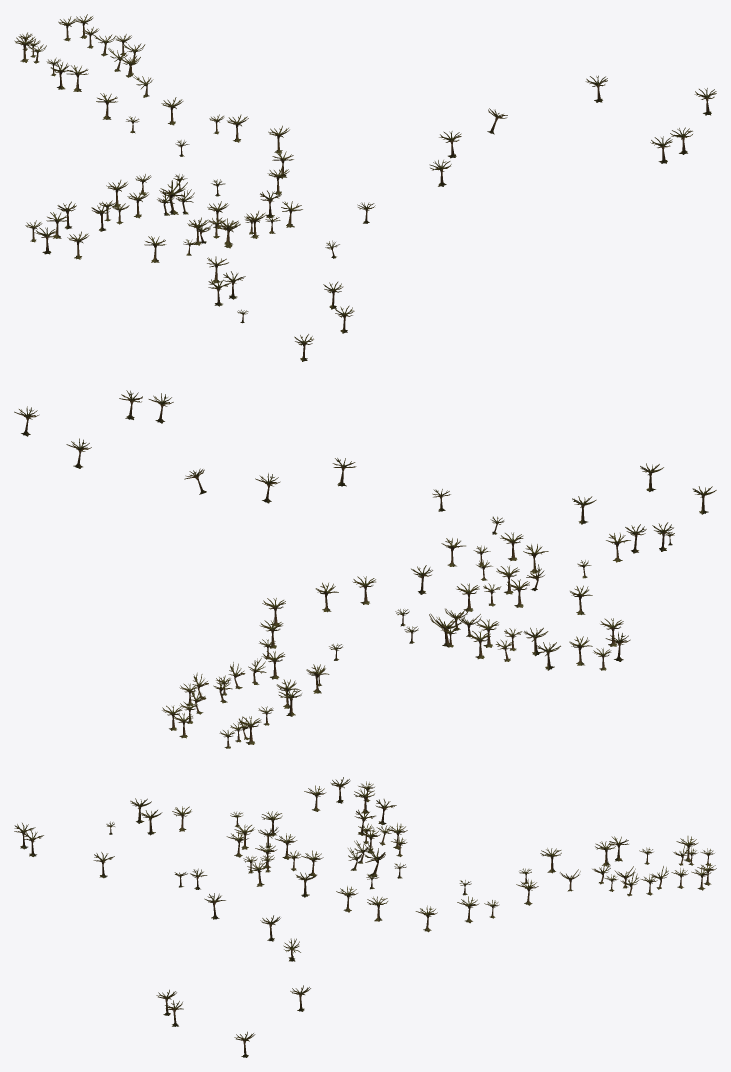
Rendered from Trees.FBX.
3 renders of one model, top to bottom at view 1: azimuth 30°, elevation 25°; view 2: azimuth 150°, elevation 25°; view 3: azimuth 270°, elevation 25°, orthographic. The views are drawn at different scales.
Parts seen in each view (by area): view 1: Tree:Tree101; view 2: Tree:Tree101; view 3: Tree:Tree101.
Part boxes in pixels (box(x1,y1,x2,y2)): Tree:Tree101: box(14, 14, 716, 361); Tree:Tree101: box(14, 390, 716, 748); Tree:Tree101: box(14, 777, 716, 1057).
Bounding box in the file's own units: 918 × 95.79 × 945.
